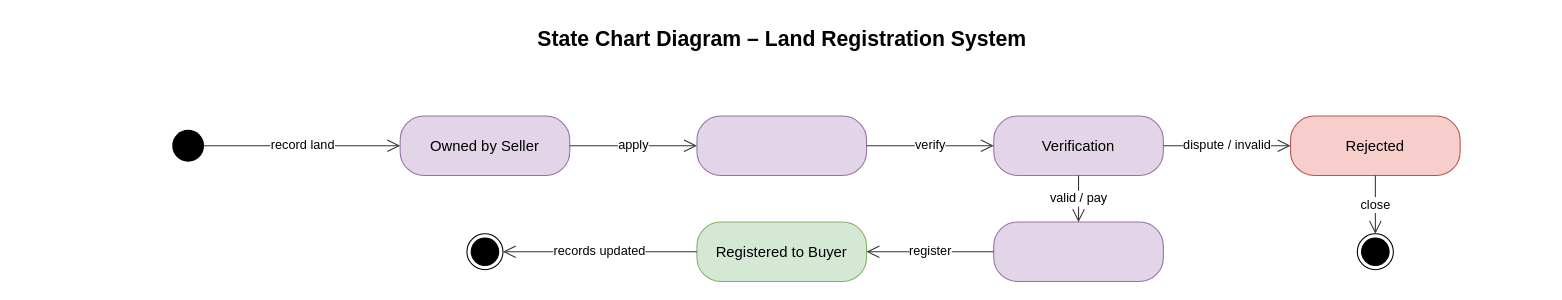
Some shapes in this 1562 by 300 pixel diagram are drawn without their labels. The shapes that lost their labels are listed below. From the top down, each one's box as (x1, y1, x2, y2) in pixels, then its label:
(696, 115, 867, 175): Application Filed
(993, 221, 1163, 281): Fees and Tax Paid
